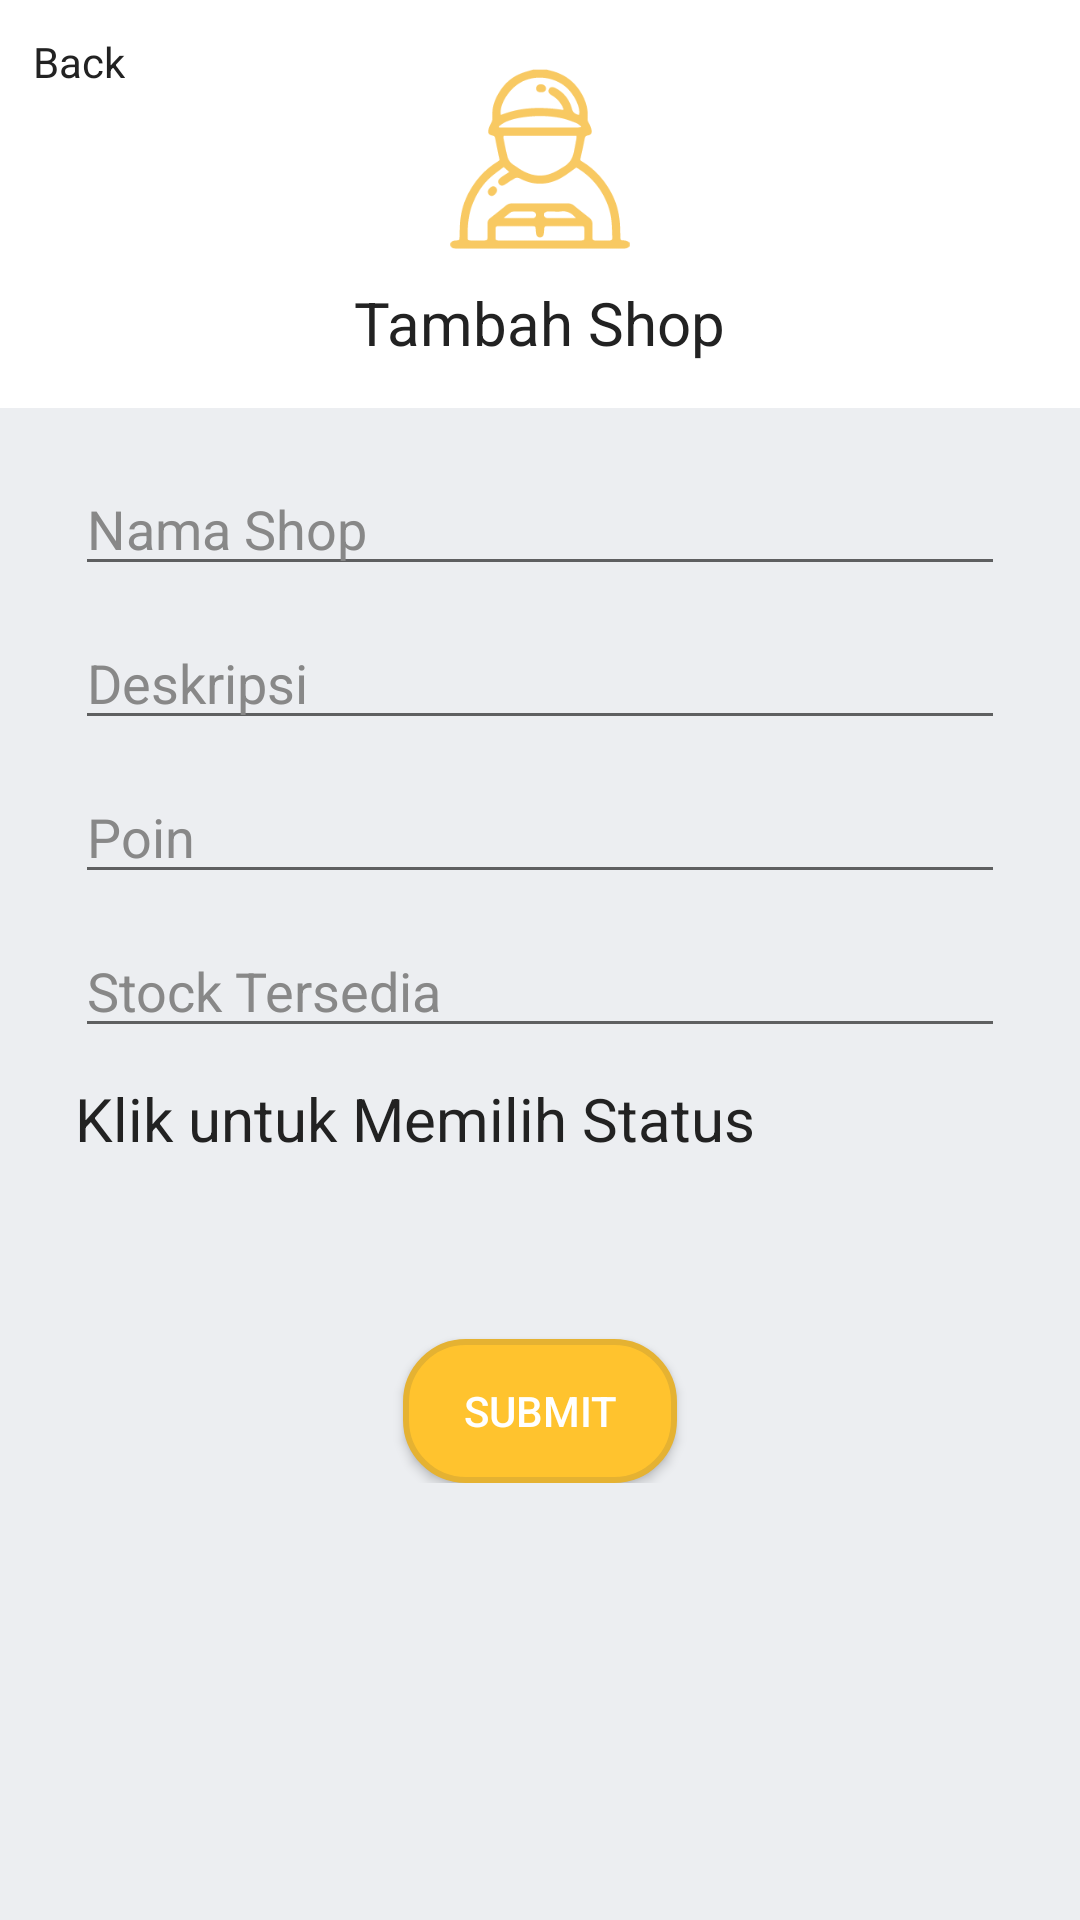

Icons on this 1080px x 1920px Android screen, each with its box as (x1, y1, x2, y2):
iconsales: (450, 69, 630, 249)
